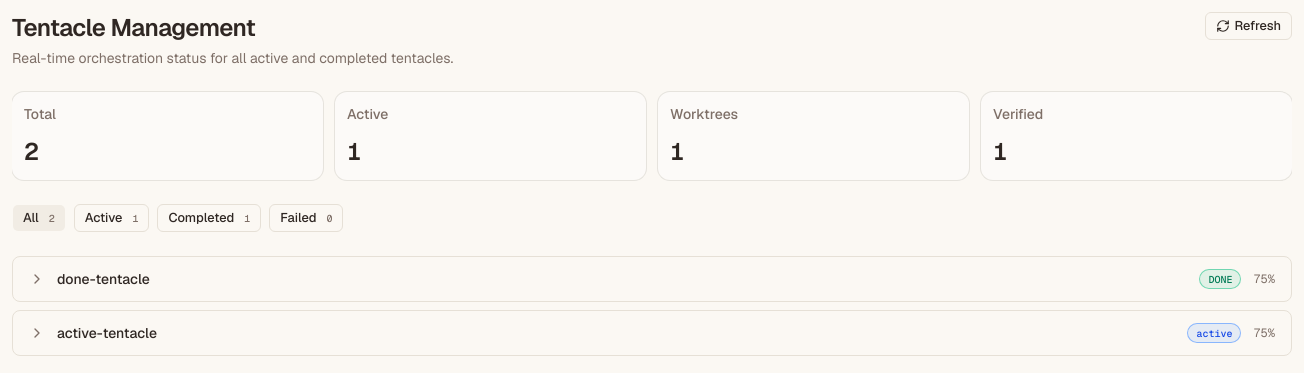
Test: TentaclesPage › filters to show only completed tentacles
Expected: the text "done-tentacle" is shown, [57,270,150,288]
Expected: the text "active-tentacle" is shown, [57,324,157,342]
# Click "completed" filter
Click the button with test id "filter-completed" at (209, 218), box [157,204,261,232]
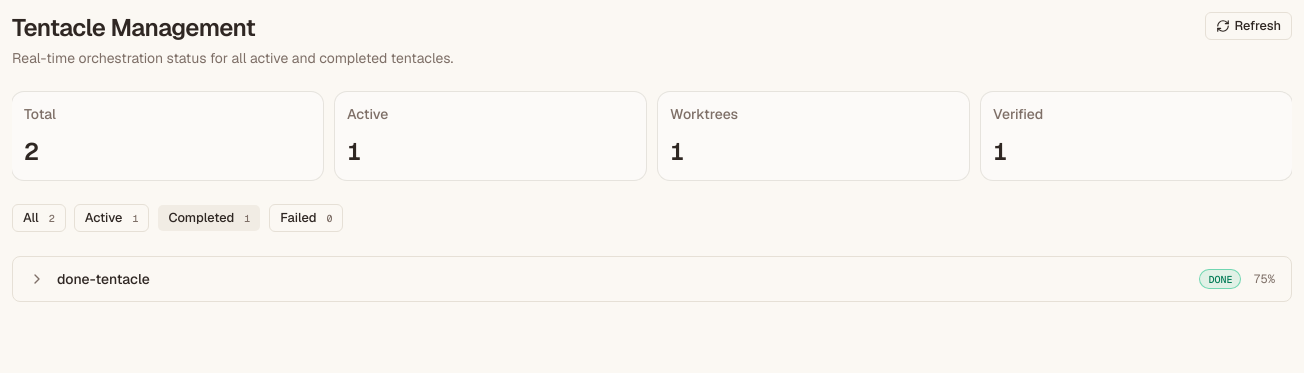
Expected: the text "done-tentacle" is shown, [57,270,150,288]
Expected: the button "active-tentacle" is gone
